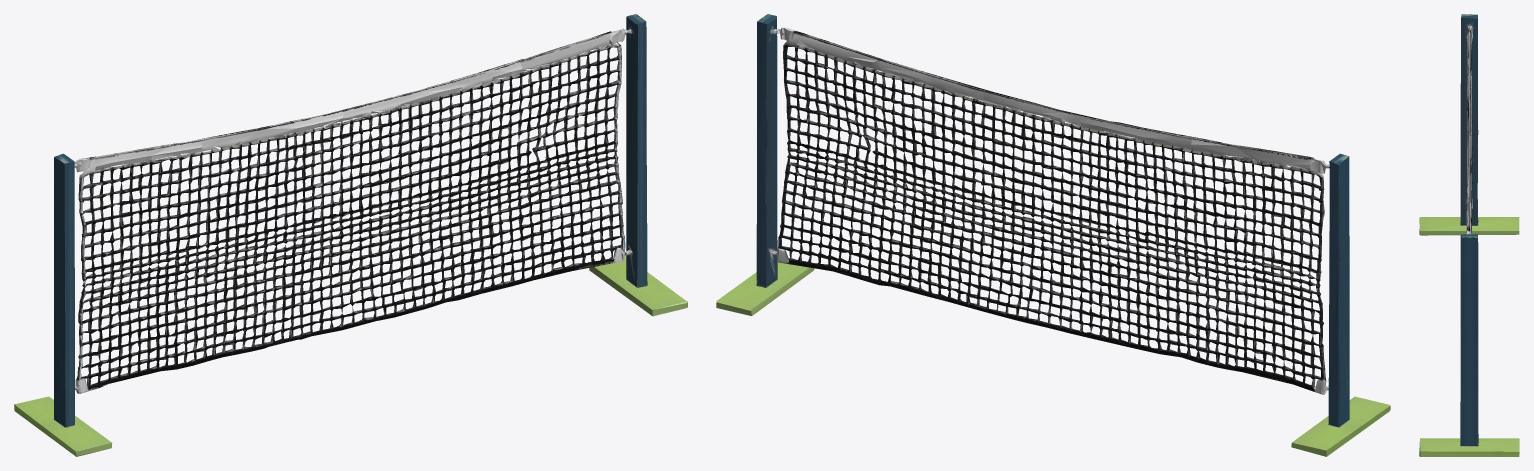
File: tennis-net.glb
The picture shows the model from 3 angles, left to right: view 1: azimuth 30°, elevation 25°; view 2: azimuth 150°, elevation 25°; view 3: azimuth 270°, elevation 25°; orthographic projection. The views are drawn at different scales.
Bounding box in the file's own units: 1.9 × 0.8046 × 0.3427.
1 material, 1 textured.
